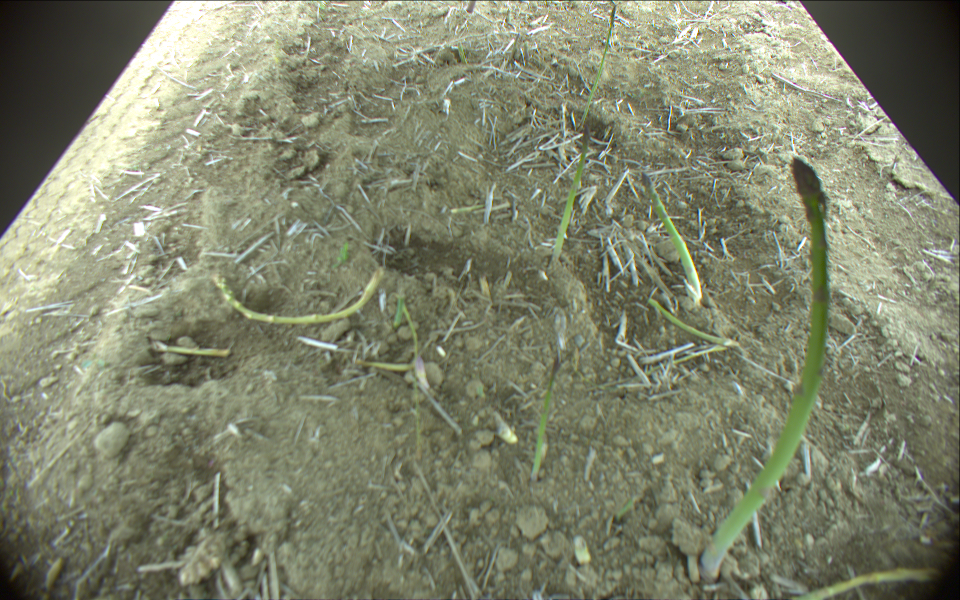aspa: (699, 156, 830, 575), (205, 269, 384, 326), (641, 176, 702, 300), (783, 566, 960, 599), (576, 1, 620, 129), (639, 297, 739, 348), (549, 126, 588, 255), (358, 297, 423, 368), (530, 355, 563, 482), (145, 340, 231, 358)
